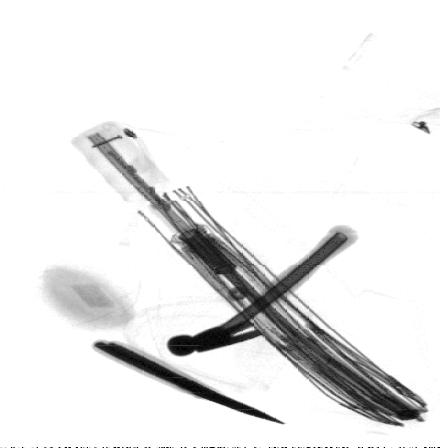Hammer: (167, 223, 359, 356)
Pliers: (92, 338, 286, 423)
